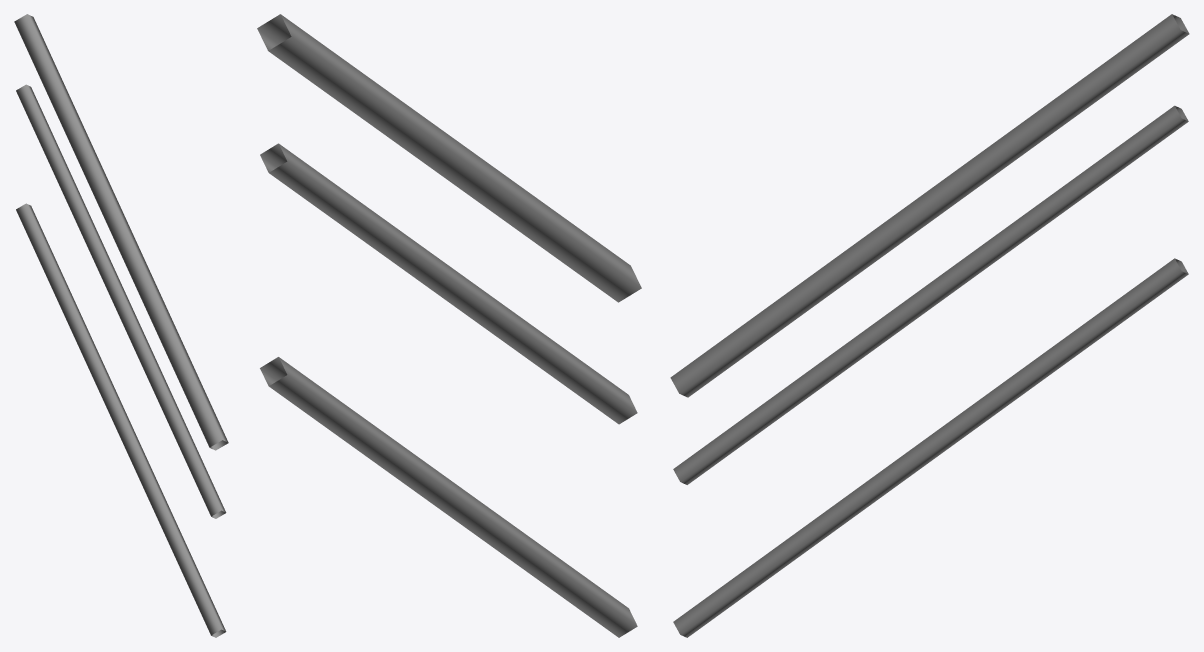
File: SW_ENV_Railing_StairRails_05.fbx
3 renders of one model, left to right at view 1: azimuth 30°, elevation 25°; view 2: azimuth 150°, elevation 25°; view 3: azimuth 270°, elevation 25°, orthographic. The views are drawn at different scales.
Visible parts, largest first — view 1: SW_ENV_Railing_StairRails_05; view 2: SW_ENV_Railing_StairRails_05; view 3: SW_ENV_Railing_StairRails_05.
Part boxes in pixels (x1,y1,x2,y2): SW_ENV_Railing_StairRails_05: [14, 14, 228, 637]; SW_ENV_Railing_StairRails_05: [257, 14, 641, 637]; SW_ENV_Railing_StairRails_05: [670, 14, 1189, 637].
Bounding box in the file's own units: 0.0712 × 1.72 × 1.29.
